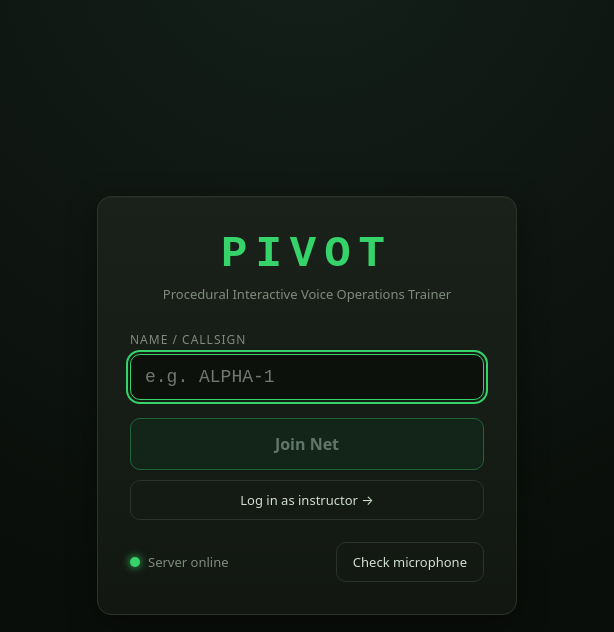
Login › microphone checks › checks microphone successfully in secure context
Click the button "Check microphone" at (410, 562), box [336,542,484,582]
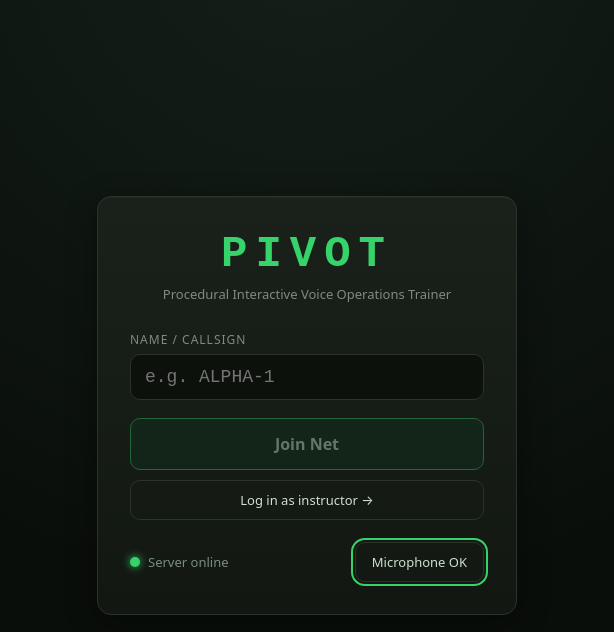
Check: the button "Microphone OK" is shown, box [355,542,484,582]
